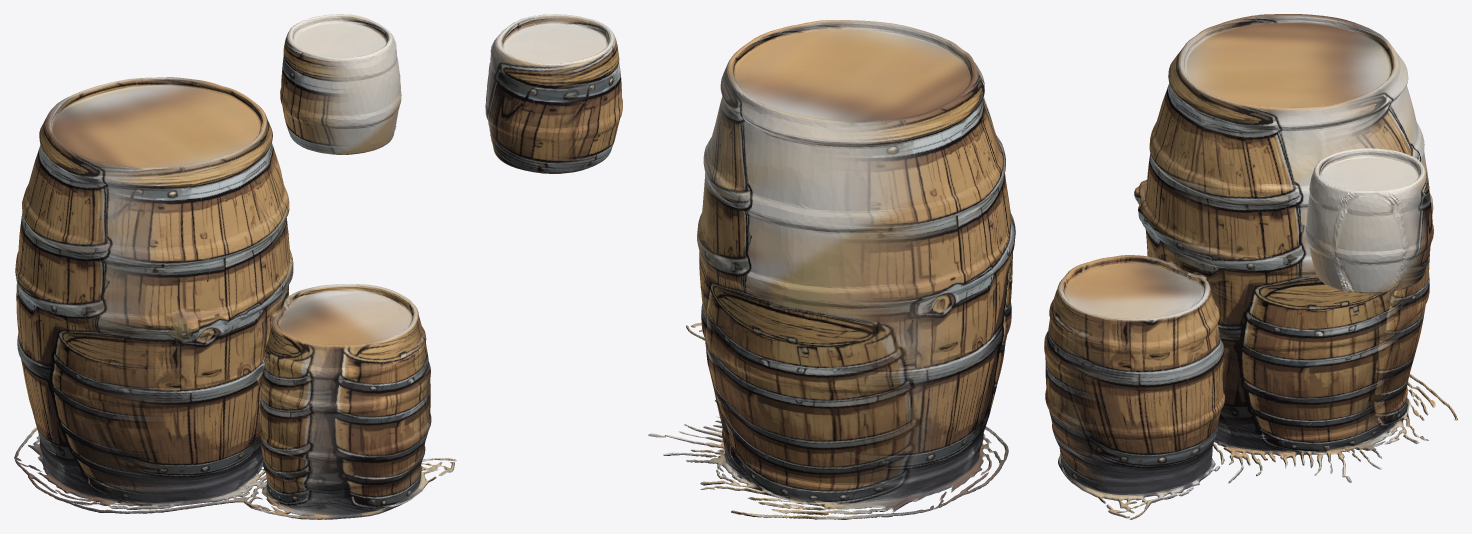
The model's file is barrels.glb.
3 renders of one model, left to right at view 1: azimuth 30°, elevation 25°; view 2: azimuth 150°, elevation 25°; view 3: azimuth 270°, elevation 25°, orthographic. The views are drawn at different scales.
Visible parts, largest first — view 1: barrels; view 2: barrels; view 3: barrels.
Boxes of the visible parts, bbox=[...] form: barrels: bbox=[14, 14, 456, 519]; barrels: bbox=[485, 14, 1015, 519]; barrels: bbox=[1044, 14, 1457, 519].
Size of the model in its own units: 1.19 by 0.9696 by 1.03.
Materials: 1 (1 with a texture image).
